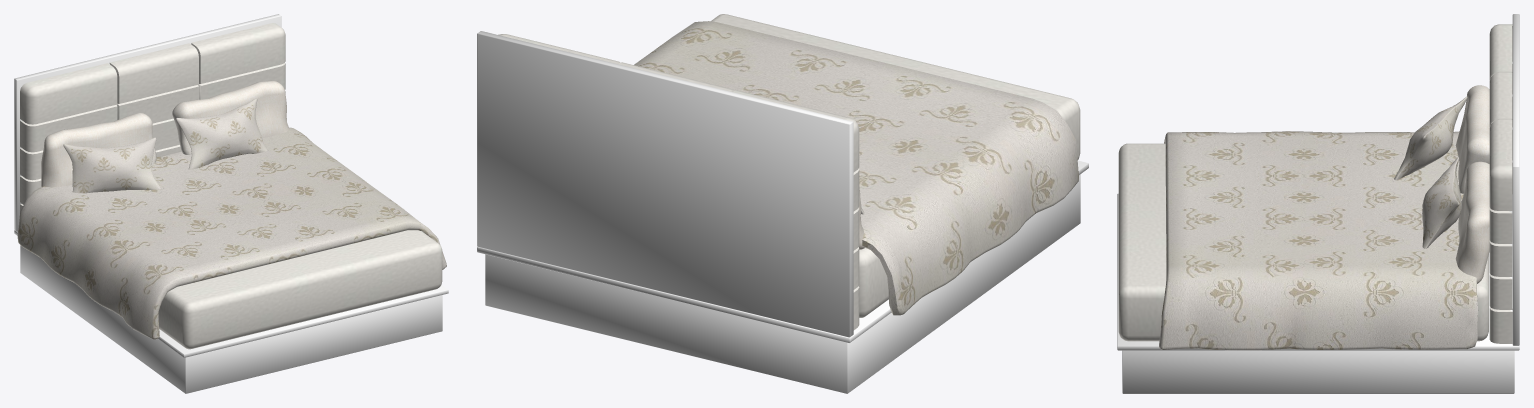
The model's file is aws_Bed_01_visual.DAE.
The picture shows the model from 3 angles, left to right: view 1: azimuth 30°, elevation 25°; view 2: azimuth 150°, elevation 25°; view 3: azimuth 270°, elevation 25°; orthographic projection. The views are drawn at different scales.
Parts seen in each view (by area): view 1: aws_ bed_01_visual; view 2: aws_ bed_01_visual; view 3: aws_ bed_01_visual.
Part boxes in pixels (<box>): aws_ bed_01_visual: <box>14,14,448,393</box>; aws_ bed_01_visual: <box>477,14,1088,393</box>; aws_ bed_01_visual: <box>1117,14,1519,393</box>.
Size of the model in its own units: 204 by 200 by 126.
3 materials, 3 textured.
